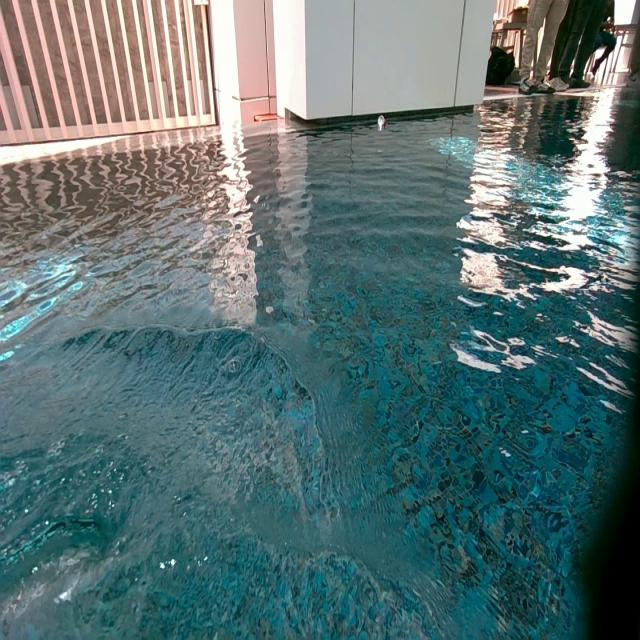Cans: (378, 114, 388, 129)
